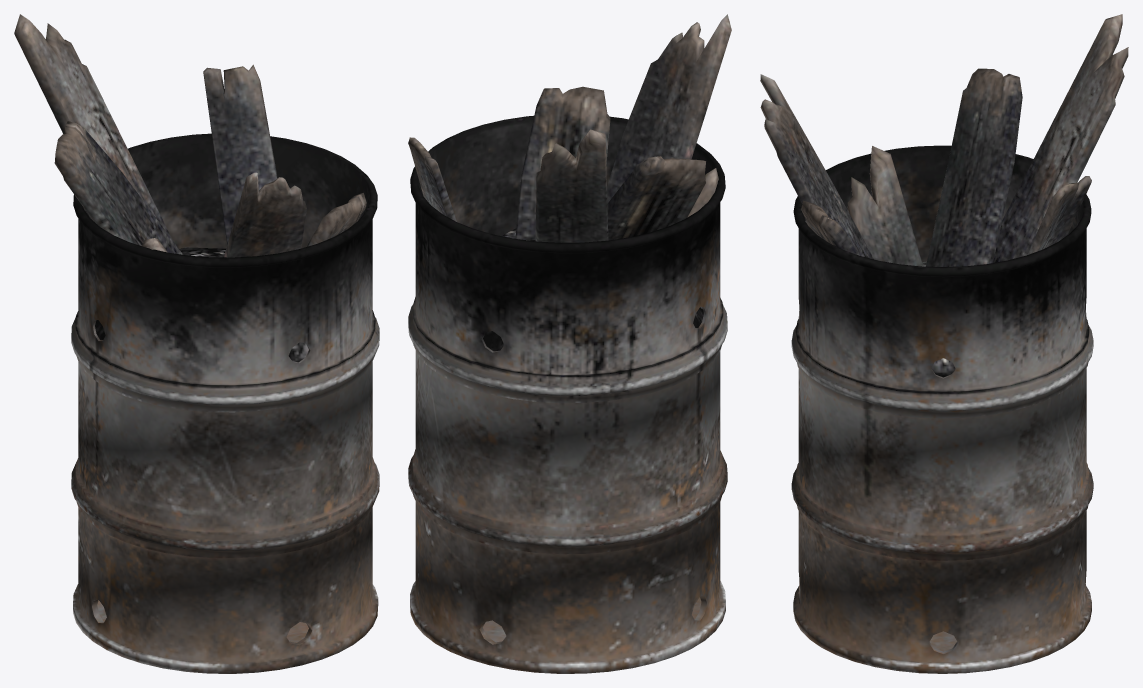
The model's file is Farm_Barrel.fbx.
3 renders of one model, left to right at view 1: azimuth 30°, elevation 25°; view 2: azimuth 150°, elevation 25°; view 3: azimuth 270°, elevation 25°, orthographic. The views are drawn at different scales.
Parts seen in each view (by area): view 1: SM_Barrel_01.mo; view 2: SM_Barrel_01.mo; view 3: SM_Barrel_01.mo.
Boxes of the visible parts, x1,y1,x2,y2 form: SM_Barrel_01.mo: (14, 14, 379, 673); SM_Barrel_01.mo: (408, 14, 731, 673); SM_Barrel_01.mo: (760, 14, 1128, 673).
Bounding box in the file's own units: 67.16 × 125 × 76.74.
